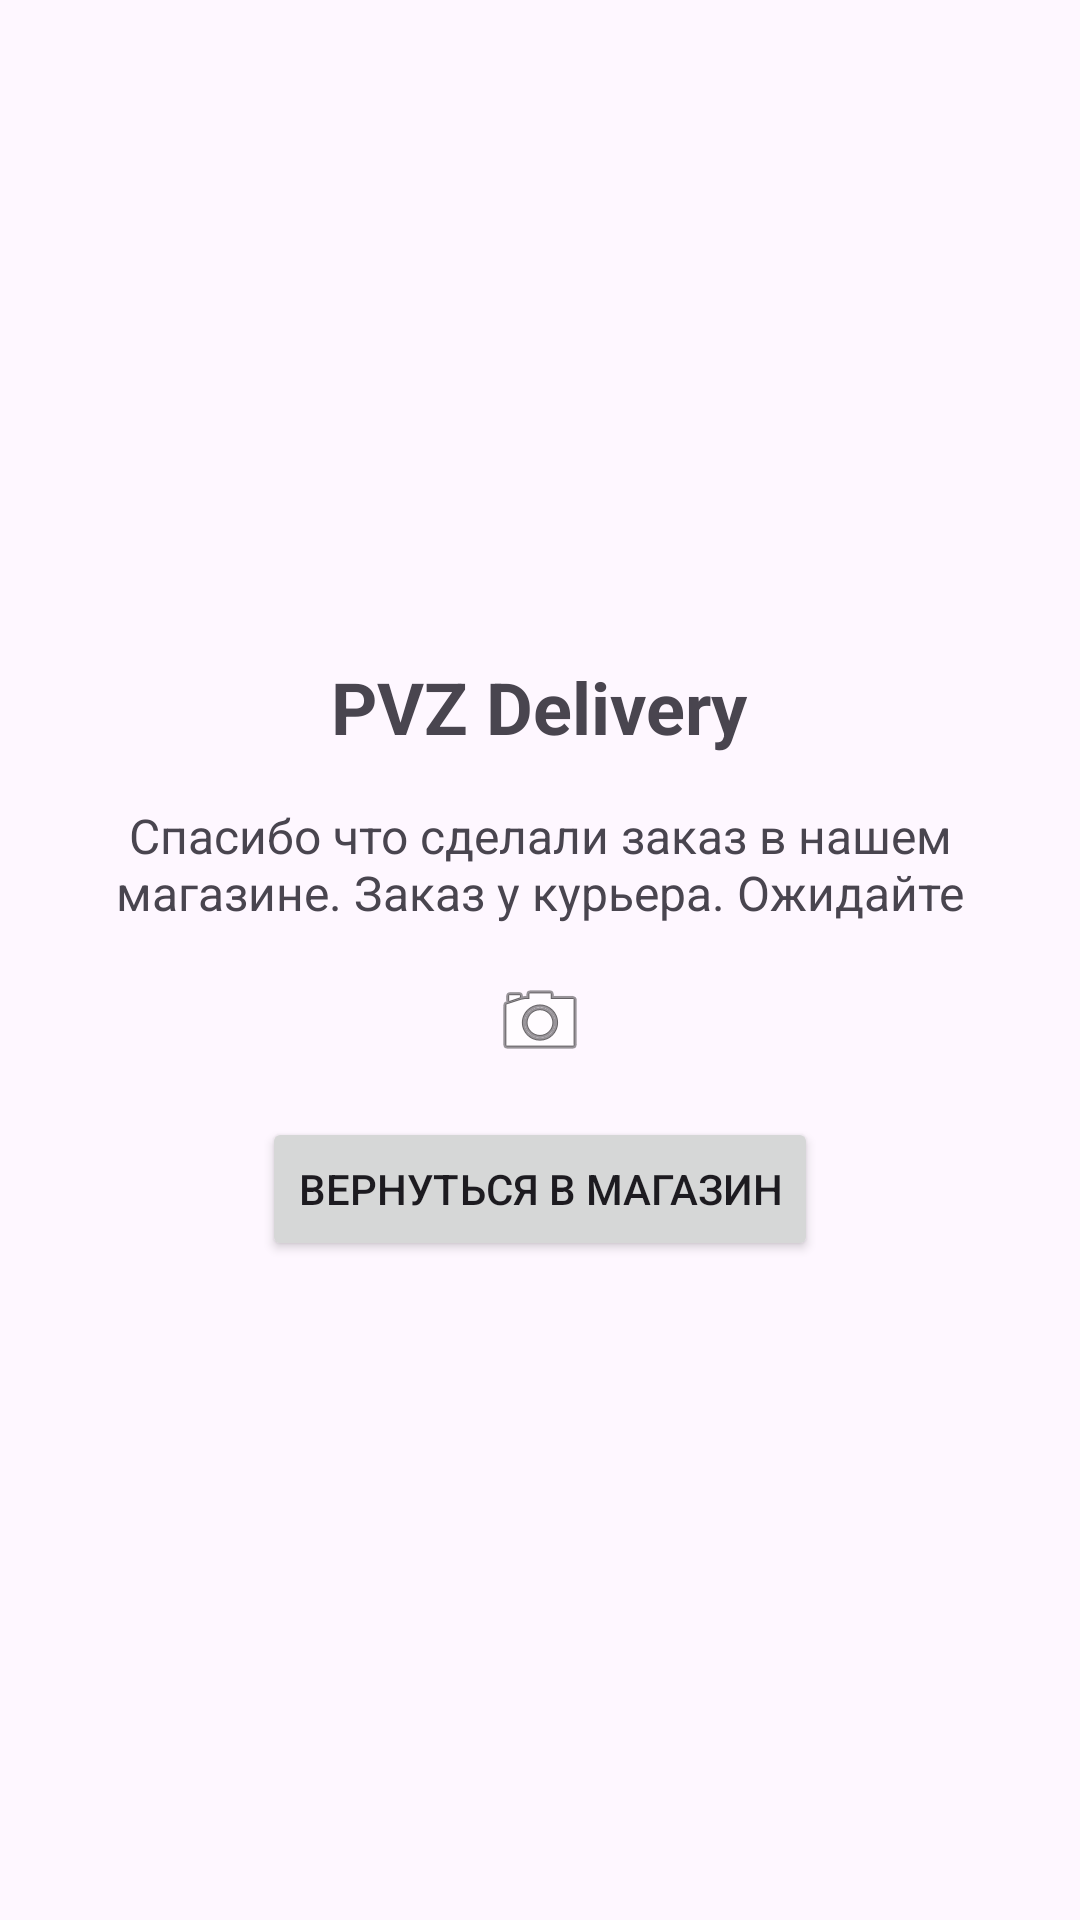

Where to tap for icons on this 1080 x 1920 app screen, as [x,y]:
Фото: [540,1019]
